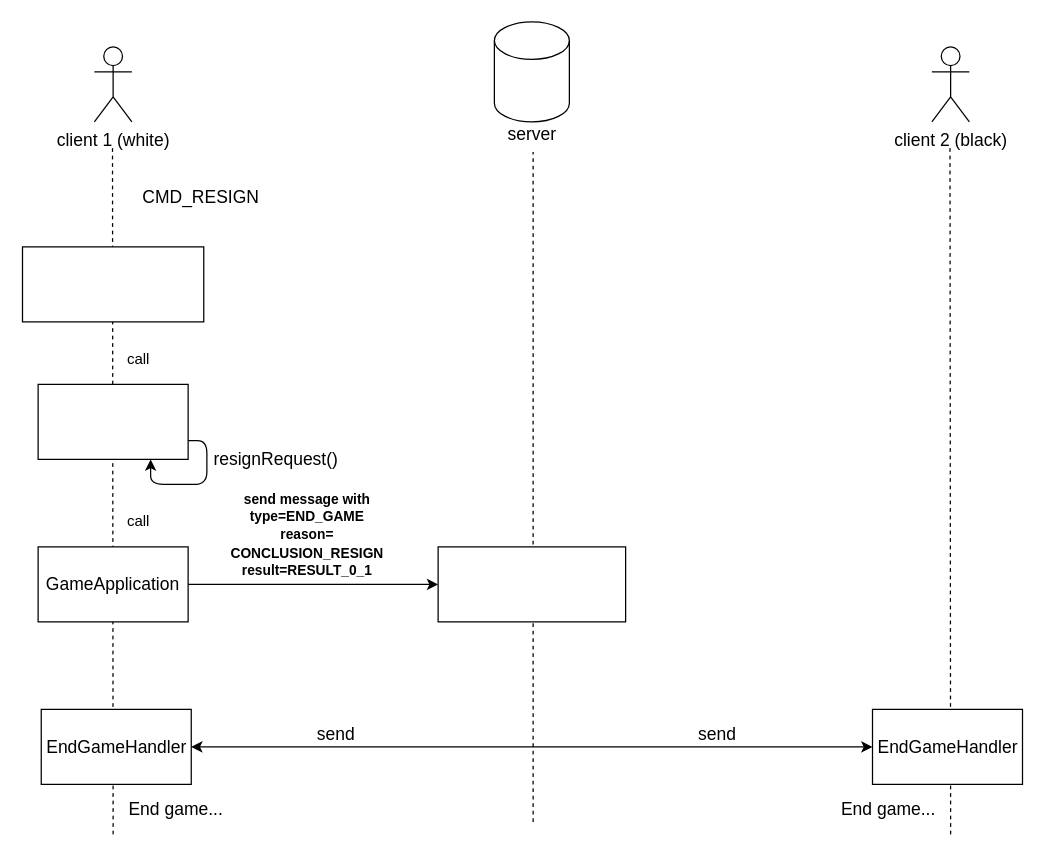
This 1044x858 diagram has some shape labels left out. Here are the shapes that lost their labels. From the top down, the centre of each, then its label:
At point 112,284: "GameViewEventListener".
At point 112,421: "Game".
At point 531,584: "EndGameEventHandler".
